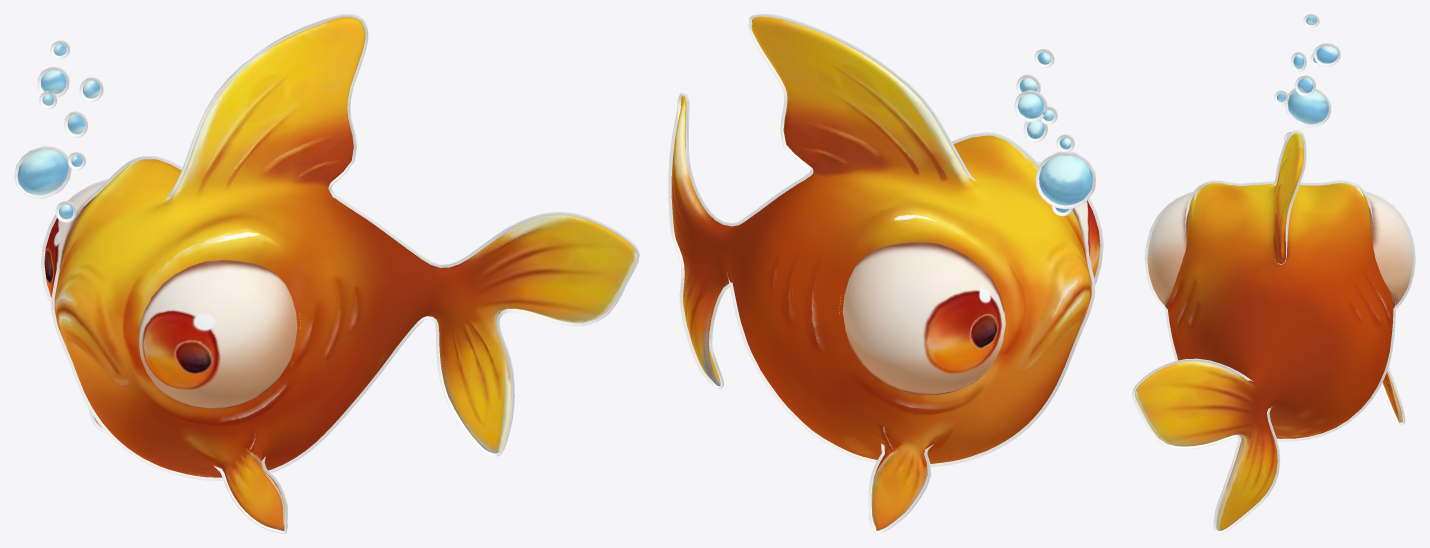
The picture shows the model from 3 angles, left to right: view 1: azimuth 30°, elevation 25°; view 2: azimuth 150°, elevation 25°; view 3: azimuth 270°, elevation 25°; orthographic projection. The views are drawn at different scales.
Parts seen in each view (by area): view 1: GoldFish_0, GoldFish.001_1; view 2: GoldFish_0, GoldFish.001_1; view 3: GoldFish_0, GoldFish.001_1.
Part boxes in pixels (x1=…): GoldFish_0: x1=17, y1=17, x2=636, y2=530; GoldFish.001_1: x1=14, y1=14, x2=639, y2=533; GoldFish_0: x1=671, y1=16, x2=1100, y2=530; GoldFish.001_1: x1=668, y1=14, x2=1103, y2=533; GoldFish_0: x1=1134, y1=16, x2=1412, y2=531; GoldFish.001_1: x1=1132, y1=14, x2=1415, y2=533.
Size of the model in its own units: 0.4355 by 0.3764 by 0.2602.
Materials: 2 (1 with a texture image).
